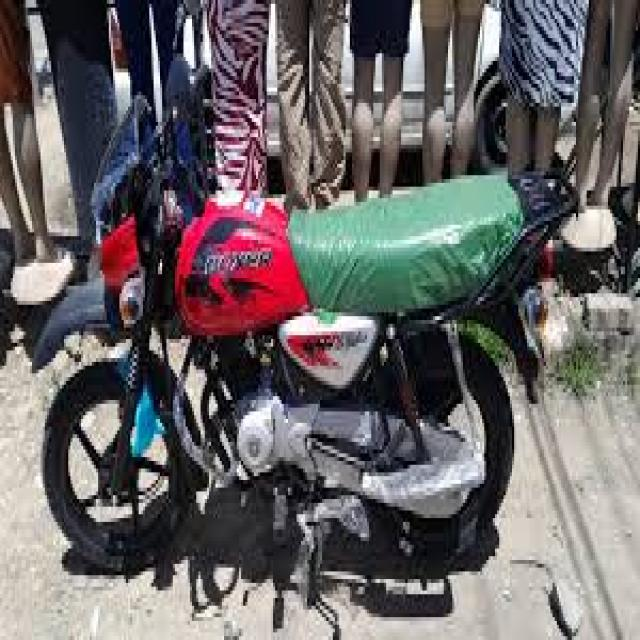bodaboda: (5, 26, 605, 640)
